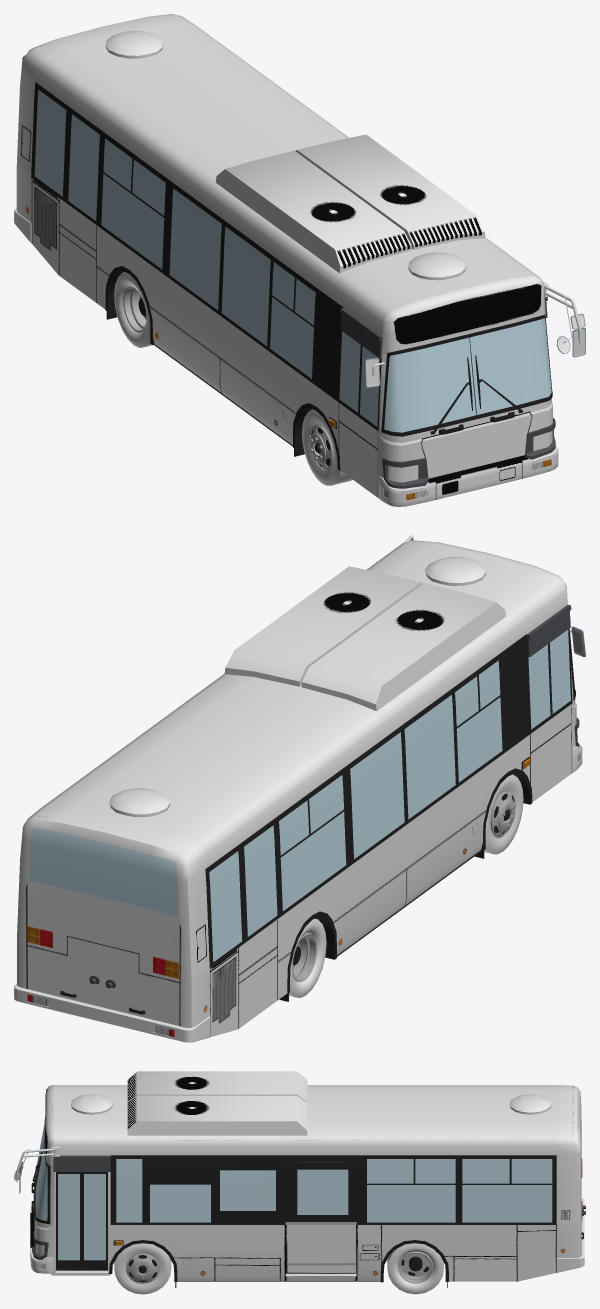
The model's file is Bus.fbx.
3 renders of one model, top to bottom at view 1: azimuth 30°, elevation 25°; view 2: azimuth 150°, elevation 25°; view 3: azimuth 270°, elevation 25°, orthographic. The views are drawn at different scales.
Parts seen in each view (by area): view 1: BodyLP, WheelFR, WheelRR; view 2: BodyLP, WheelFR, WheelRR; view 3: BodyLP, WheelFL, WheelRL.
Boxes of the visible parts, x1,y1,x2,y2 form: BodyLP: (14, 14, 585, 506); WheelFR: (302, 409, 352, 485); WheelRR: (114, 272, 152, 347); BodyLP: (14, 535, 585, 1042); WheelFR: (484, 774, 523, 854); WheelRR: (289, 918, 326, 997); BodyLP: (14, 1071, 585, 1287); WheelFL: (114, 1243, 171, 1294); WheelRL: (387, 1243, 443, 1294).
Size of what is drawn, in the model's own units: 266 by 304 by 924.
